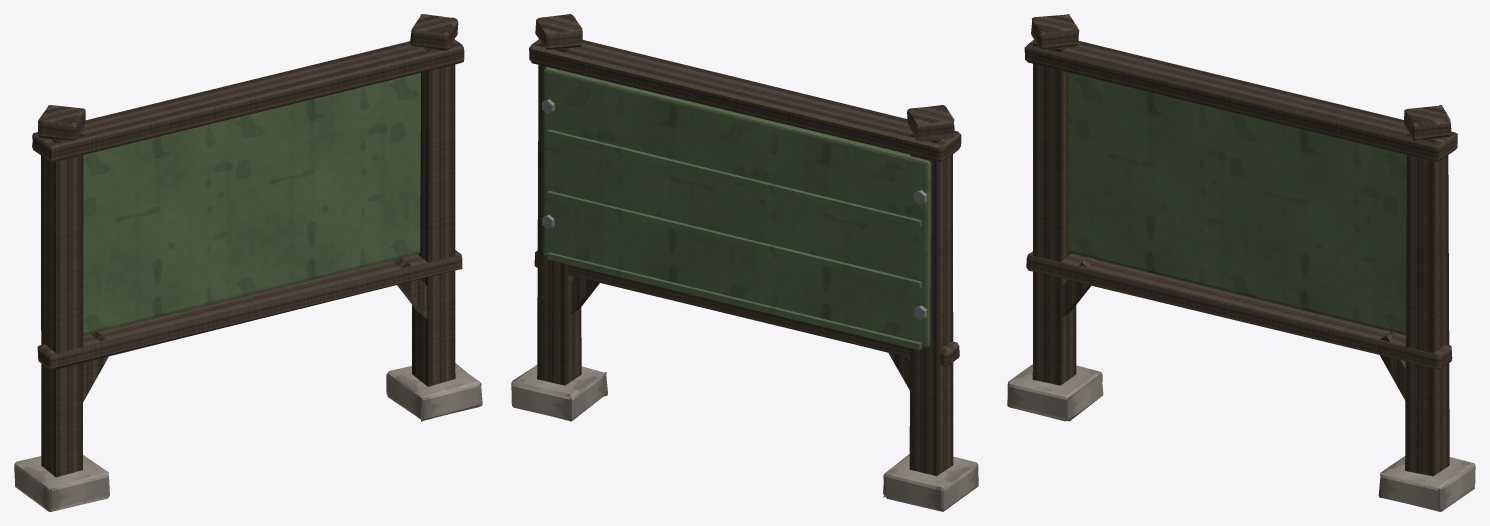
The model's file is region_sign.glb.
3 views of the same model, side by side, from view 1: azimuth 30°, elevation 25°; view 2: azimuth 150°, elevation 25°; view 3: azimuth 330°, elevation 25° (orthographic).
Visible parts, largest first — view 1: Board, RegionSign; view 2: Board, RegionSign; view 3: Board, RegionSign.
Boxes of the visible parts, box(x1,y1,x2,y2) form: Board: box(83, 73, 420, 334); RegionSign: box(14, 14, 482, 511); Board: box(543, 67, 931, 349); RegionSign: box(511, 14, 978, 511); Board: box(1068, 72, 1406, 334); RegionSign: box(1007, 14, 1475, 511).
Size of the model in its own units: 1.77 by 1.48 by 0.2608.
4 materials, 4 textured.
